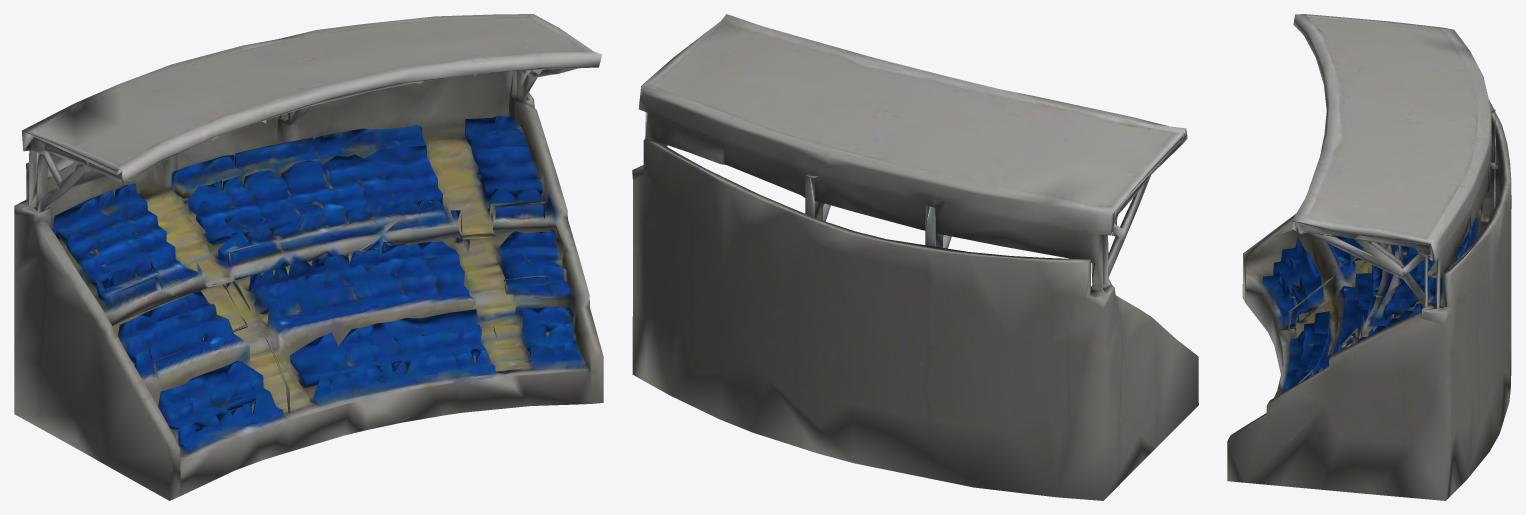
File: stand-corner.glb
3 renders of one model, left to right at view 1: azimuth 30°, elevation 25°; view 2: azimuth 150°, elevation 25°; view 3: azimuth 270°, elevation 25°, orthographic. The views are drawn at different scales.
Visible parts, largest first — view 1: stand-corner; view 2: stand-corner; view 3: stand-corner.
Boxes of the visible parts, x1,y1,x2,y2 form: stand-corner: [14, 14, 603, 500]; stand-corner: [632, 14, 1198, 500]; stand-corner: [1227, 14, 1511, 500].
Bounding box in the file's own units: 22.54 × 14 × 12.52.
Materials: 1 (1 with a texture image).
